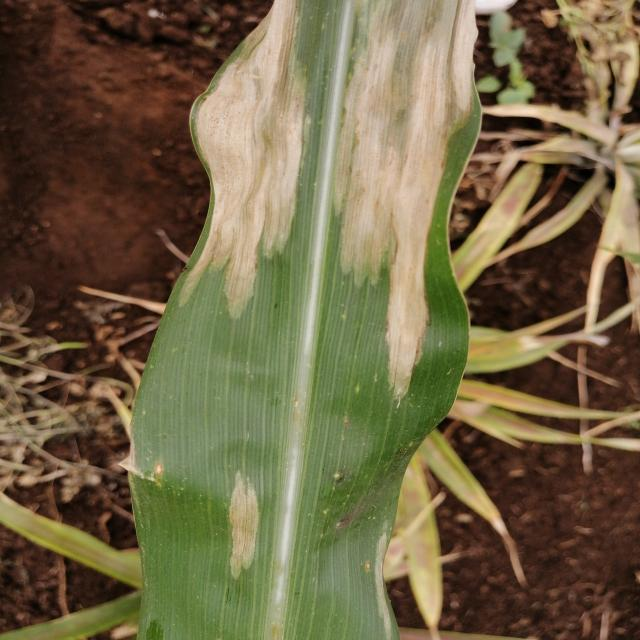Corn_Leaf_Blight: (130, 0, 481, 640)
